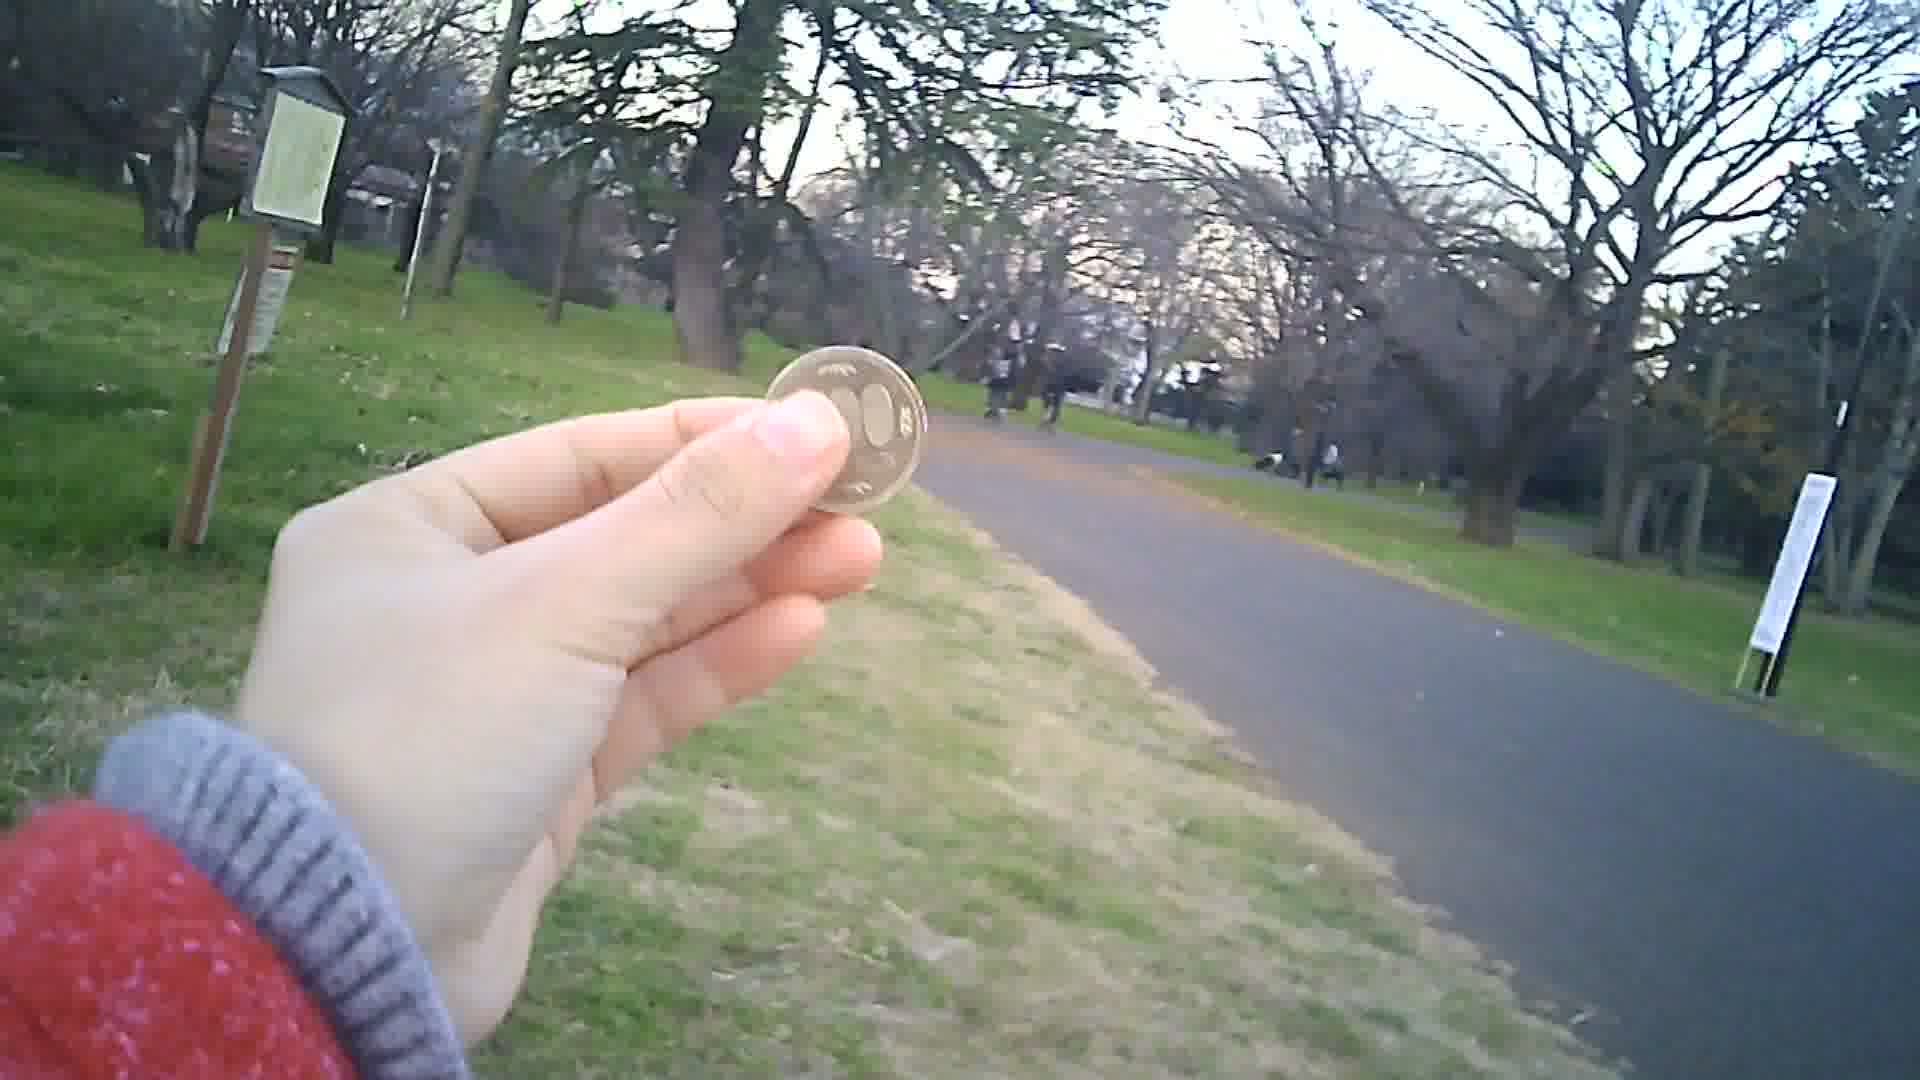500 Yen: (756, 335, 940, 520)
